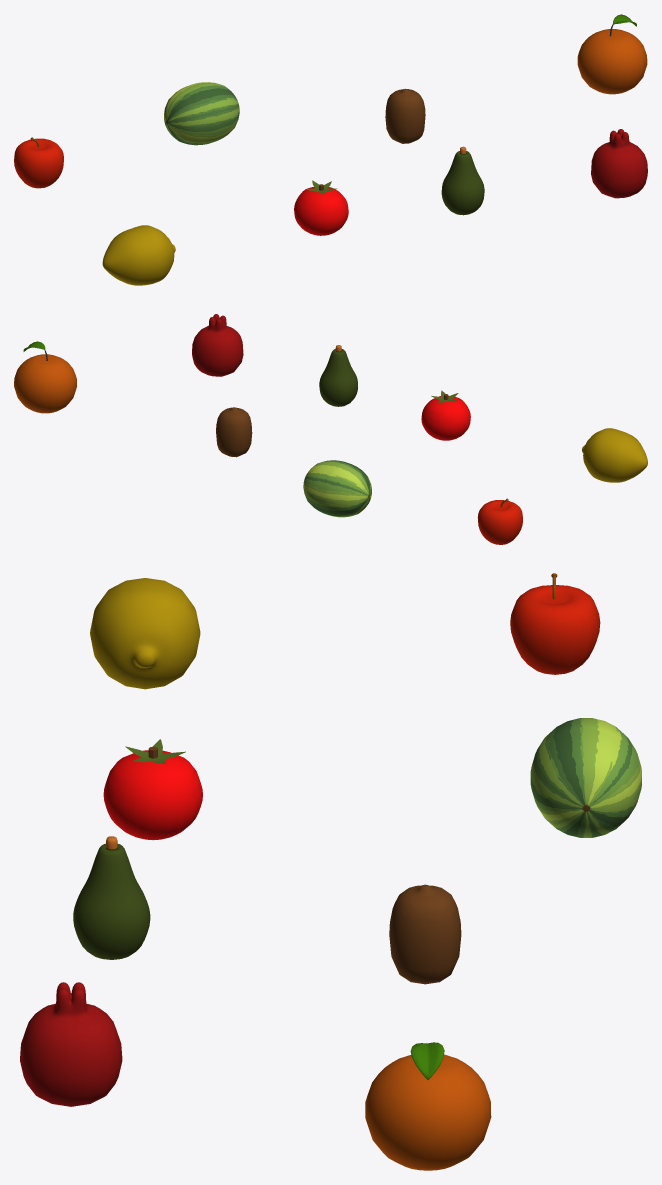
The model's file is full_fruit_1.fbx.
3 renders of one model, top to bottom at view 1: azimuth 30°, elevation 25°; view 2: azimuth 150°, elevation 25°; view 3: azimuth 270°, elevation 25°, orthographic. The views are drawn at different scales.
Parts seen in each view (by area): view 1: watermelon.003, Orange, leomn, pomegranate, Tomato, avacado.001, apple.001, kiwi.003; view 2: watermelon.003, Orange, leomn, pomegranate, Tomato, avacado.001, apple.001, kiwi.003; view 3: Orange, watermelon.003, leomn, pomegranate, Tomato, apple.001, avacado.001, kiwi.003.
Boxes of the visible parts, x1,y1,x2,y2 form: watermelon.003: (164,82,239,145); Orange: (577,14,647,94); leomn: (102,225,175,285); pomegranate: (591,129,647,198); Tomato: (294,180,348,235); avacado.001: (441,146,484,215); apple.001: (14,137,63,188); kiwi.003: (385,88,425,143); watermelon.003: (303,460,371,517); Orange: (14,341,76,413); leomn: (582,428,647,482); pomegranate: (192,314,243,376); Tomato: (421,390,470,440); avacado.001: (319,345,357,406); apple.001: (477,498,522,544); kiwi.003: (216,407,252,457); Orange: (365,1042,491,1170); watermelon.003: (530,718,641,837); leomn: (90,578,200,689); pomegranate: (20,982,122,1106); Tomato: (103,739,202,840); apple.001: (510,573,600,674); avacado.001: (73,836,150,959); kiwi.003: (389,884,461,984).
Bounding box in the file's own units: 4504 × 558 × 2174.
Materials: 9 (9 with a texture image).
